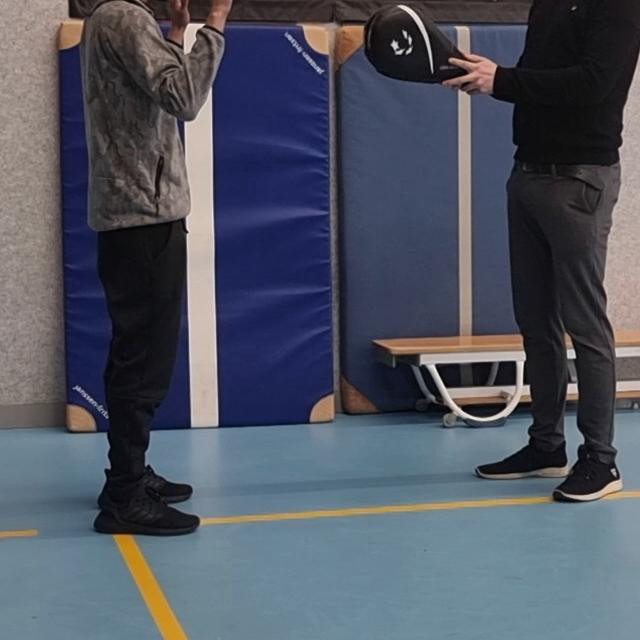paddle: (365, 5, 470, 85)
